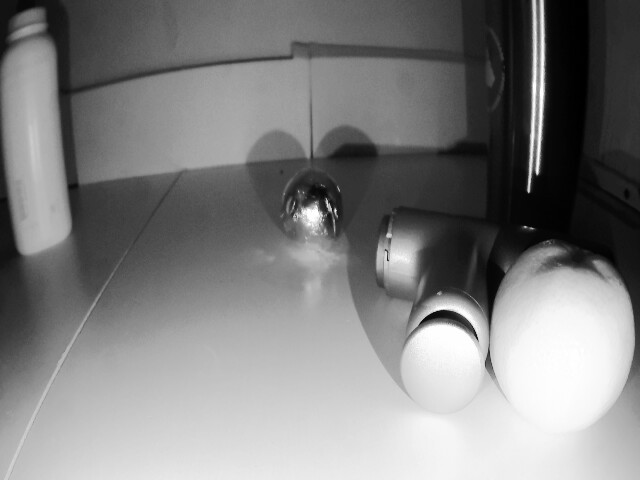black: (274, 166, 357, 275)
